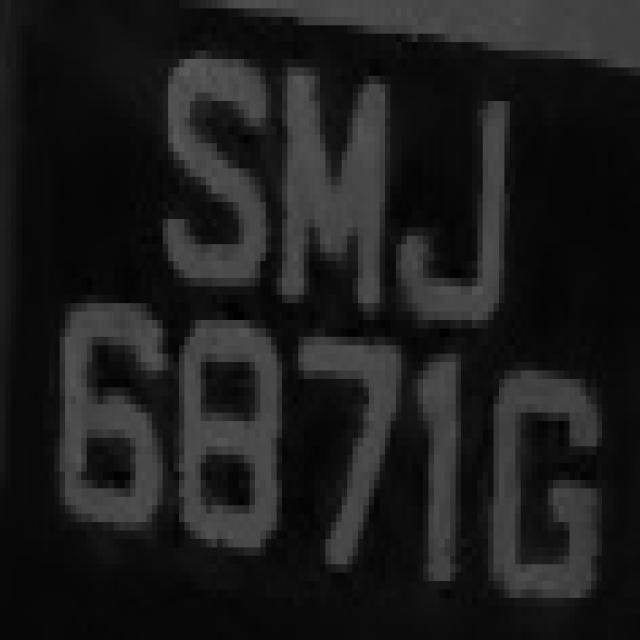1: (402, 303, 466, 606)
6: (49, 270, 163, 590)
7: (298, 303, 402, 606)
8: (174, 312, 298, 572)
G: (483, 345, 618, 632)
J: (385, 51, 521, 345)
M: (277, 34, 401, 337)
S: (146, 34, 282, 328)
